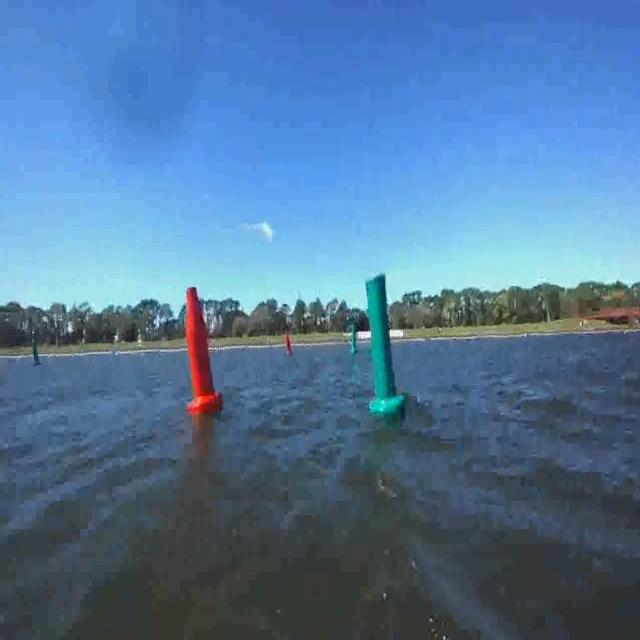green-column-buoy: (366, 269, 404, 416), (28, 334, 40, 367), (350, 325, 359, 355)
red-column-buoy: (184, 279, 223, 414), (285, 334, 293, 357)
